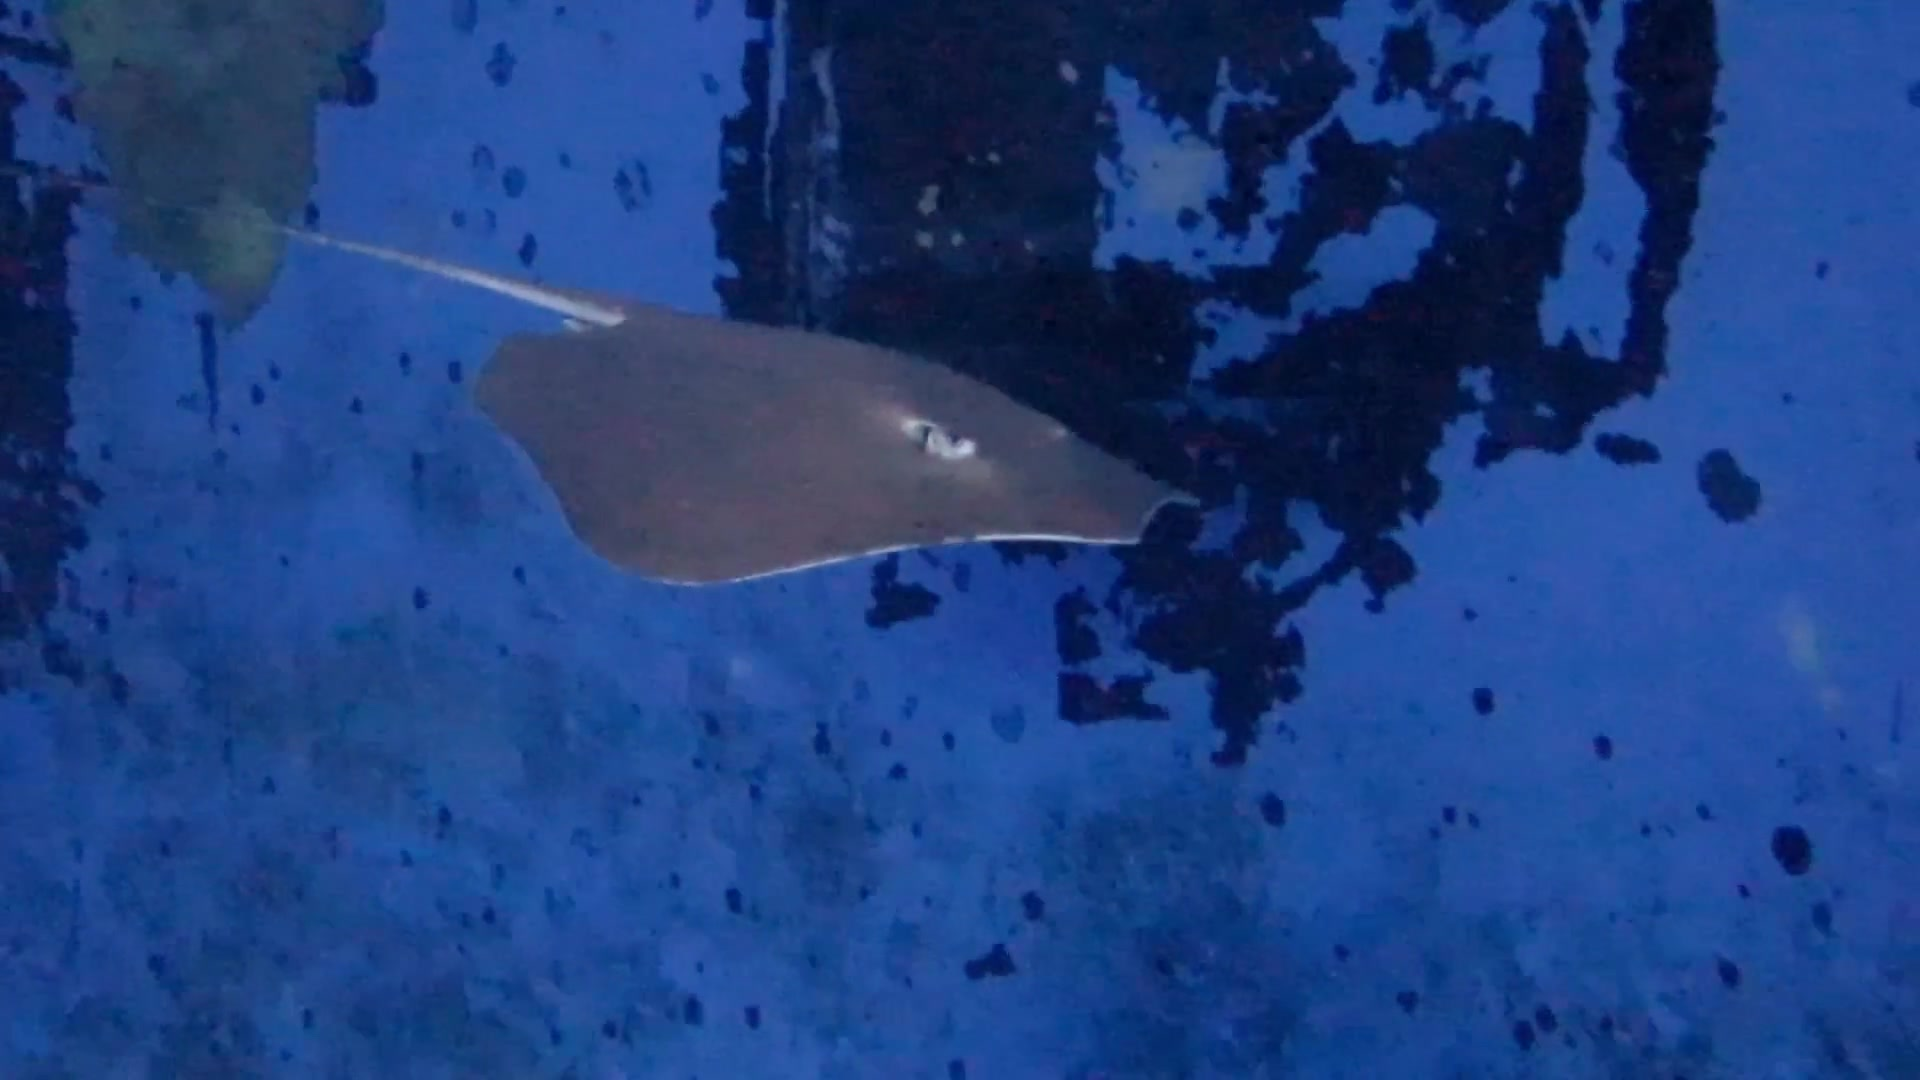Himantura gerrardi: (109, 131, 1265, 637)
